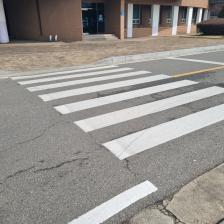crosswalk: (12, 72, 216, 148)
